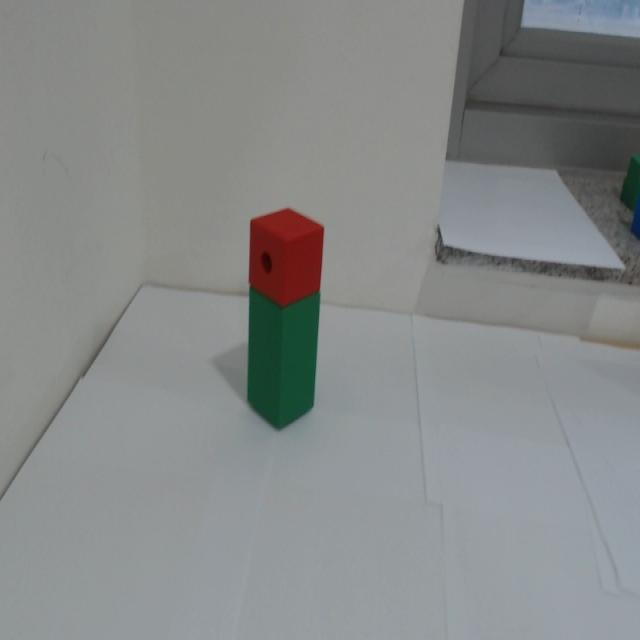cube: (239, 191, 333, 307)
